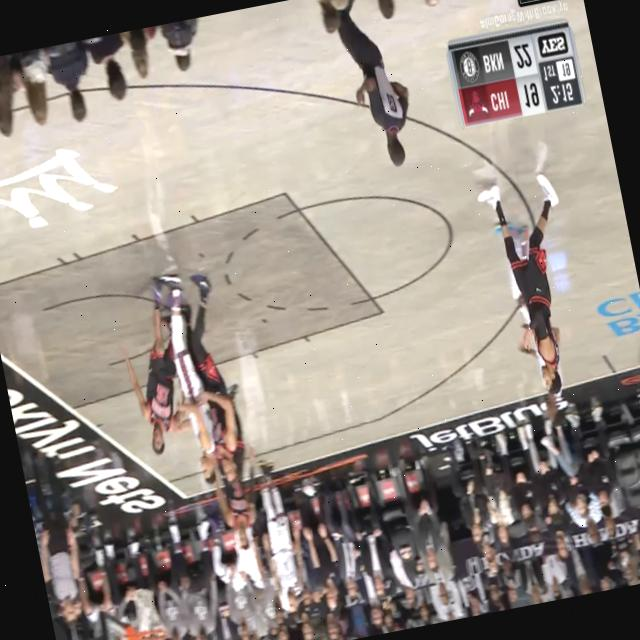foul: (48, 254, 271, 519)
no foul: (422, 140, 634, 460)
